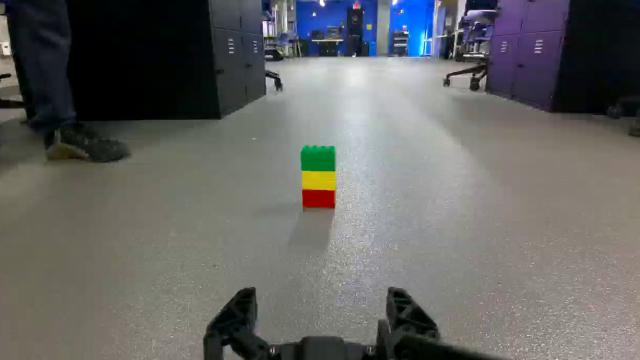lego: (299, 144, 335, 210)
